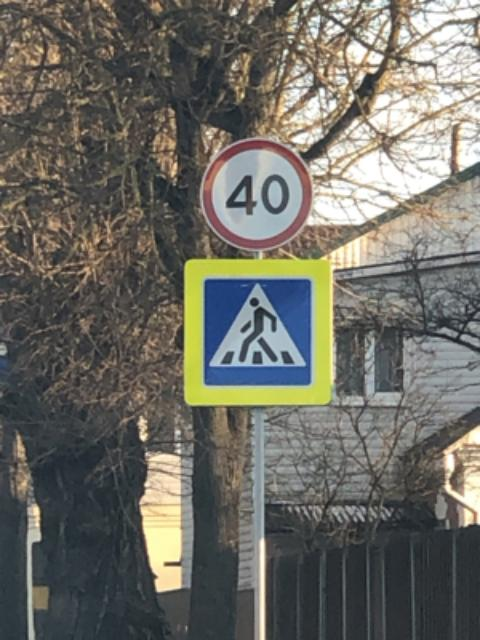crosswalk-sign: (183, 255, 336, 407)
